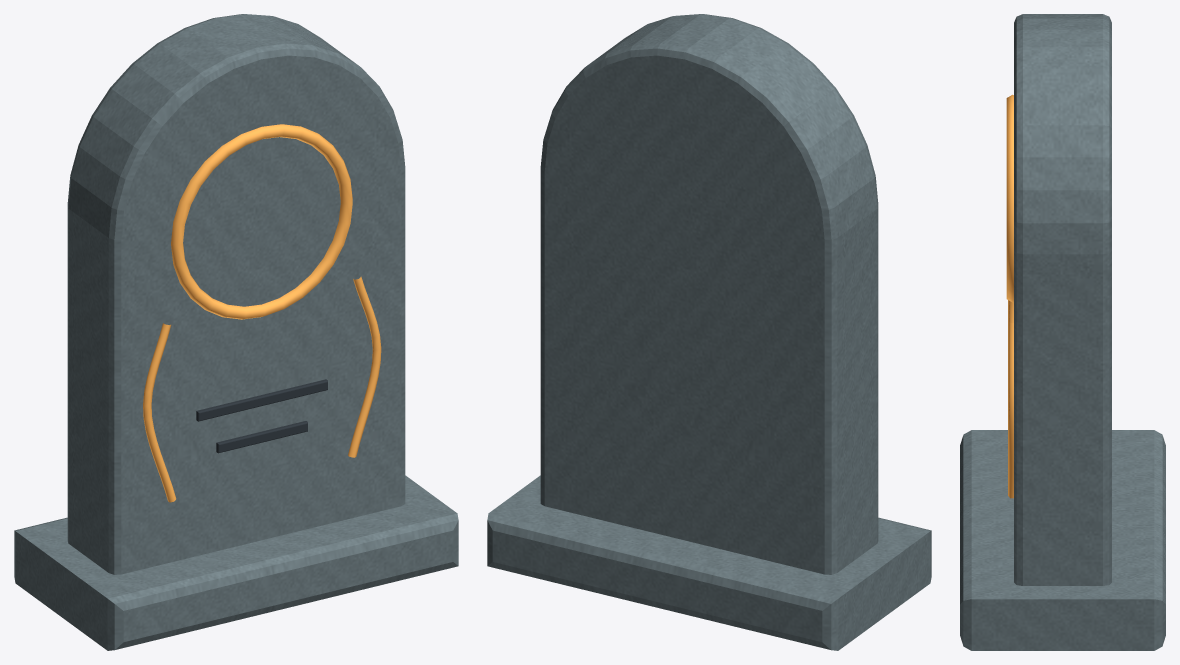
The model's file is hollowwick-halloween-round-arch-headstone-748621ec__21627.glb.
3 views of the same model, side by side, from view 1: azimuth 30°, elevation 25°; view 2: azimuth 150°, elevation 25°; view 3: azimuth 270°, elevation 25° (orthographic).
Parts seen in each view (by area): view 1: round-arch-headstone; view 2: round-arch-headstone; view 3: round-arch-headstone.
Part boxes in pixels (x1,y1,x2,y2): round-arch-headstone: (14,14,458,650); round-arch-headstone: (487,14,931,650); round-arch-headstone: (960,14,1165,650).
Bounding box in the file's own units: 0.7 × 1.04 × 0.36.
3 materials, 1 textured.
